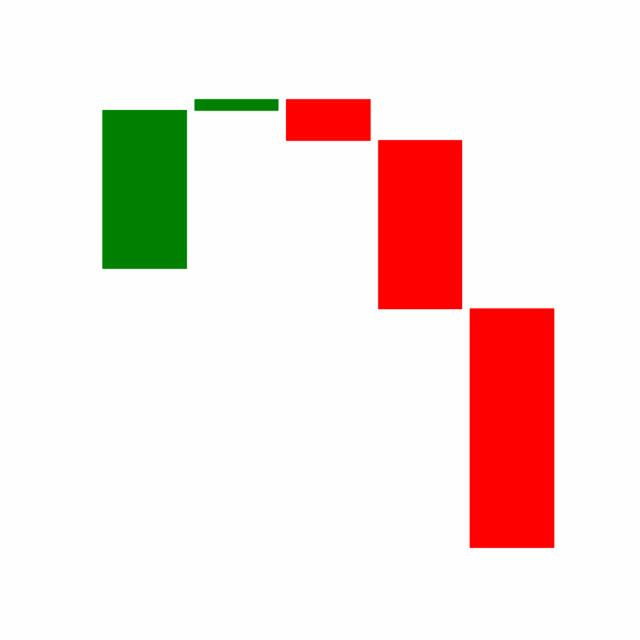Marubozu: (373, 137, 467, 310)
